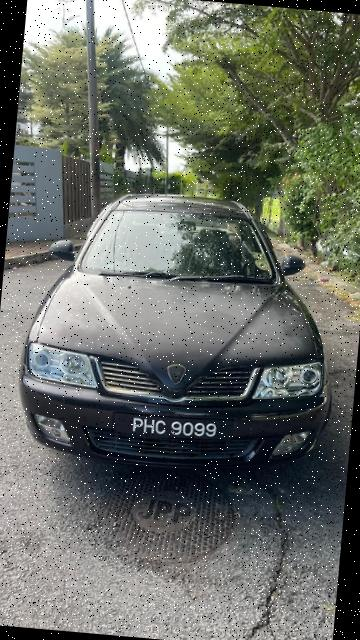License_Plate: (115, 407, 237, 451)
car: (8, 175, 349, 482)
